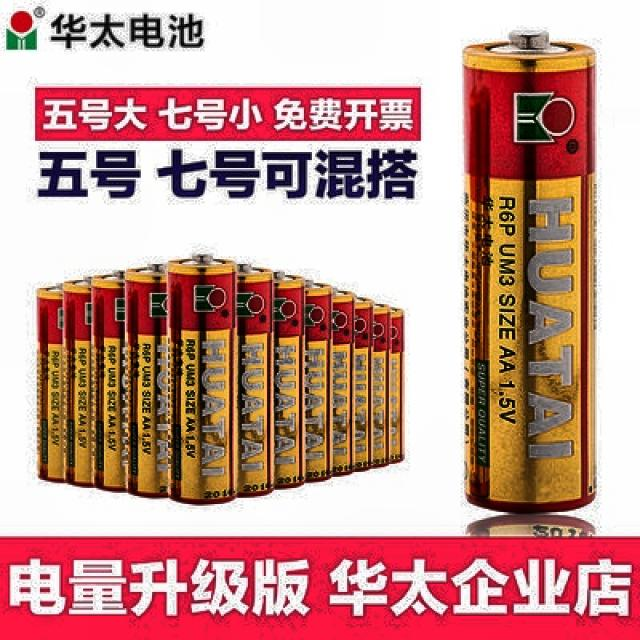Non-Valuable Waste - Batteries: (39, 255, 404, 503), (464, 34, 595, 511)
